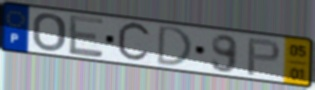9: (209, 33, 240, 74)
C: (115, 20, 154, 65)
D: (155, 24, 195, 68)
E: (67, 13, 106, 59)
O: (31, 12, 69, 53)
P: (245, 37, 282, 77)
